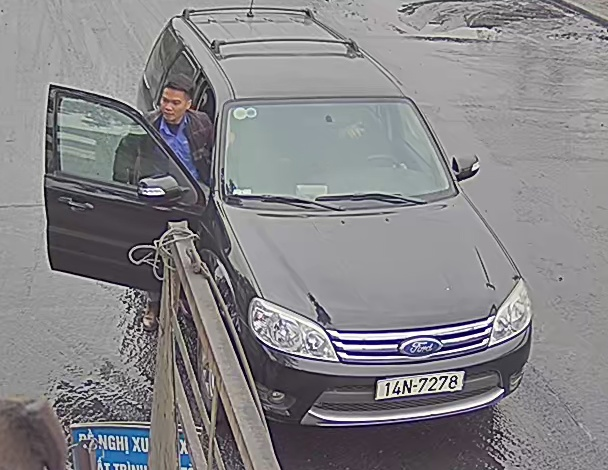vehicle plate: (374, 369, 464, 400)
